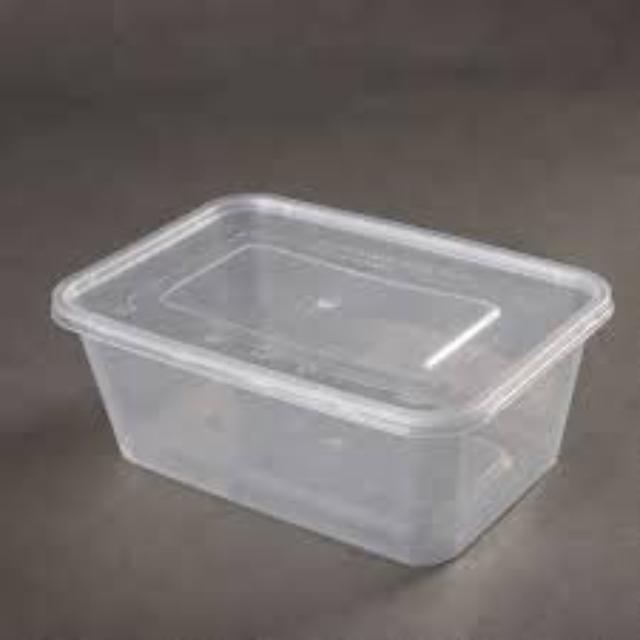Recipiente plastico: (48, 193, 616, 571)
